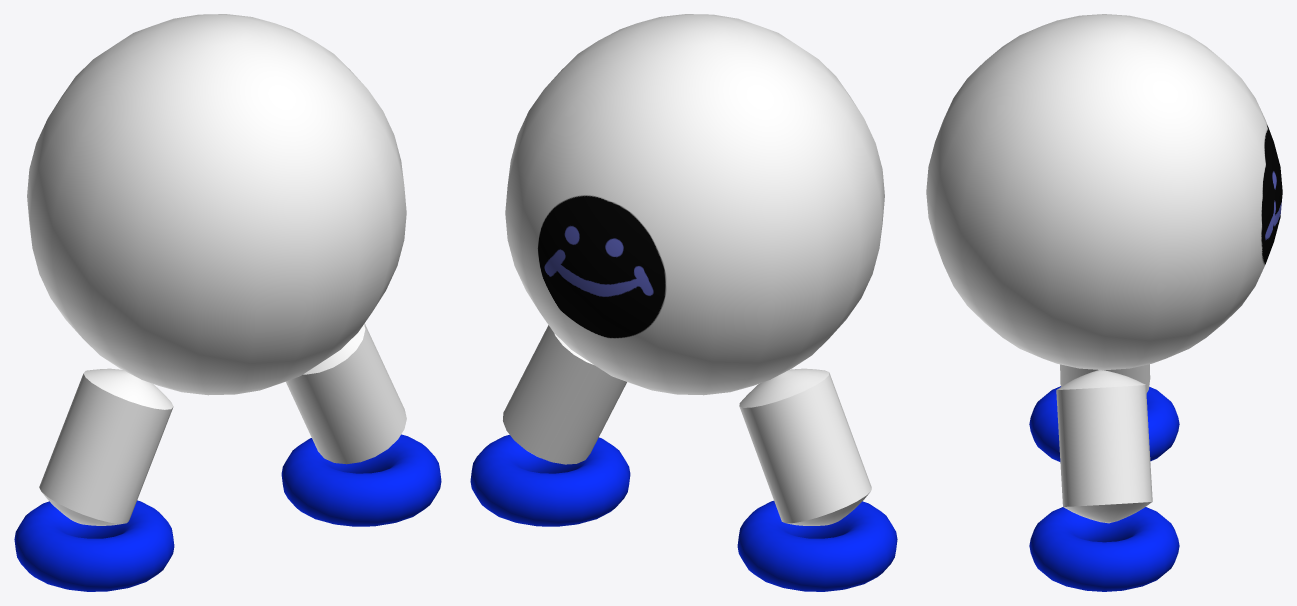
Rendered from Player 1.fbx.
The picture shows the model from 3 angles, left to right: view 1: azimuth 30°, elevation 25°; view 2: azimuth 150°, elevation 25°; view 3: azimuth 270°, elevation 25°; orthographic projection. The views are drawn at different scales.
Parts seen in each view (by area): view 1: pSphere1, Left_Leg1, pTorus2, pTorus1, Left_Leg; view 2: pSphere1, Left_Leg1, pTorus2, pTorus1, Left_Leg; view 3: pSphere1, Left_Leg, pTorus1, pTorus2, Left_Leg1.
Part boxes in pixels (x1,y1,x2,y2): pSphere1: (27, 14, 406, 395); Left_Leg1: (39, 368, 173, 525); pTorus2: (14, 500, 174, 591); pTorus1: (281, 434, 441, 526); Left_Leg: (286, 323, 406, 464); pSphere1: (505, 14, 884, 395); Left_Leg1: (739, 368, 871, 525); pTorus2: (737, 500, 897, 591); pTorus1: (470, 435, 630, 526); Left_Leg: (503, 325, 626, 464); pSphere1: (926, 14, 1282, 370); Left_Leg: (1056, 369, 1152, 523); pTorus1: (1029, 507, 1179, 591); pTorus2: (1029, 386, 1179, 461); Left_Leg1: (1060, 364, 1150, 392).
Size of the model in its own units: 24.58 by 29.23 by 20.
3 materials, 3 textured.
